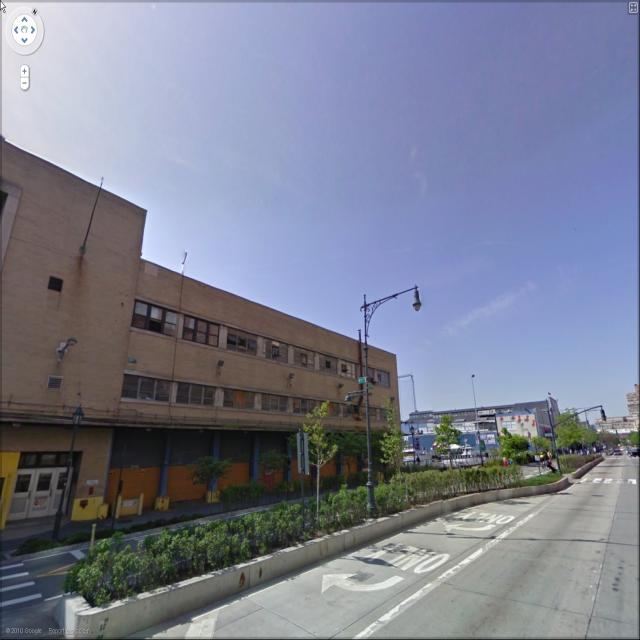b_1: (0, 160, 402, 516), (412, 388, 563, 449), (591, 408, 637, 444), (620, 375, 640, 405)
